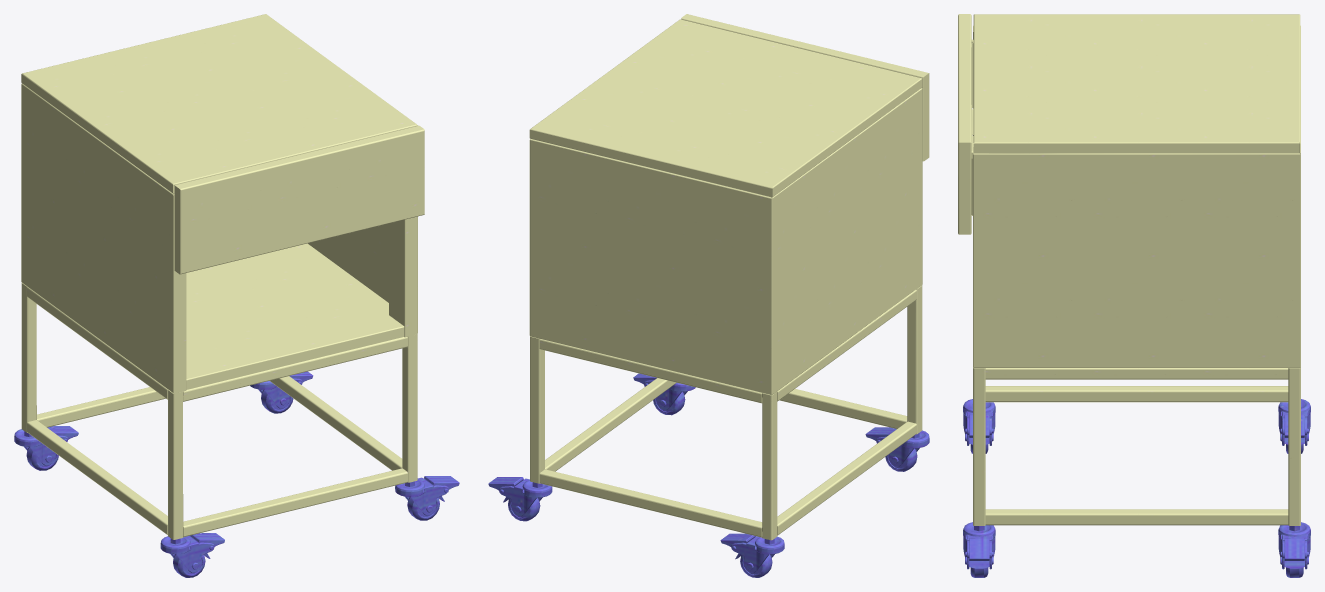
3 renders of one model, left to right at view 1: azimuth 30°, elevation 25°; view 2: azimuth 150°, elevation 25°; view 3: azimuth 270°, elevation 25°, orthographic. The views are drawn at different scales.
Visible parts, largest first — view 1: 09e21c88-1bc7-4675-bd58-b289a0974729, 36d8b3ec-52ed-4c15-8e6b-a96b49ac1575, a150e39e-361d-4b7d-bdba-714abbe7fec0, ba6eaba1-6301-4aa5-9d00-b04a51a04bbe; view 2: 09e21c88-1bc7-4675-bd58-b289a0974729, a150e39e-361d-4b7d-bdba-714abbe7fec0, ba6eaba1-6301-4aa5-9d00-b04a51a04bbe; view 3: 09e21c88-1bc7-4675-bd58-b289a0974729, a150e39e-361d-4b7d-bdba-714abbe7fec0, ba6eaba1-6301-4aa5-9d00-b04a51a04bbe.
Part boxes in pixels (x1,y1,x2,y2): 09e21c88-1bc7-4675-bd58-b289a0974729: (21, 14, 417, 539); 36d8b3ec-52ed-4c15-8e6b-a96b49ac1575: (181, 131, 423, 273); a150e39e-361d-4b7d-bdba-714abbe7fec0: (14, 371, 459, 577); ba6eaba1-6301-4aa5-9d00-b04a51a04bbe: (174, 125, 424, 274); 09e21c88-1bc7-4675-bd58-b289a0974729: (529, 19, 922, 540); a150e39e-361d-4b7d-bdba-714abbe7fec0: (488, 373, 929, 577); ba6eaba1-6301-4aa5-9d00-b04a51a04bbe: (681, 14, 929, 161); 09e21c88-1bc7-4675-bd58-b289a0974729: (971, 14, 1300, 525); a150e39e-361d-4b7d-bdba-714abbe7fec0: (963, 399, 1310, 577); ba6eaba1-6301-4aa5-9d00-b04a51a04bbe: (958, 14, 971, 234).
Size of the model in its own units: 0.5381 by 0.7001 by 0.5216.
2 materials, 2 textured.
